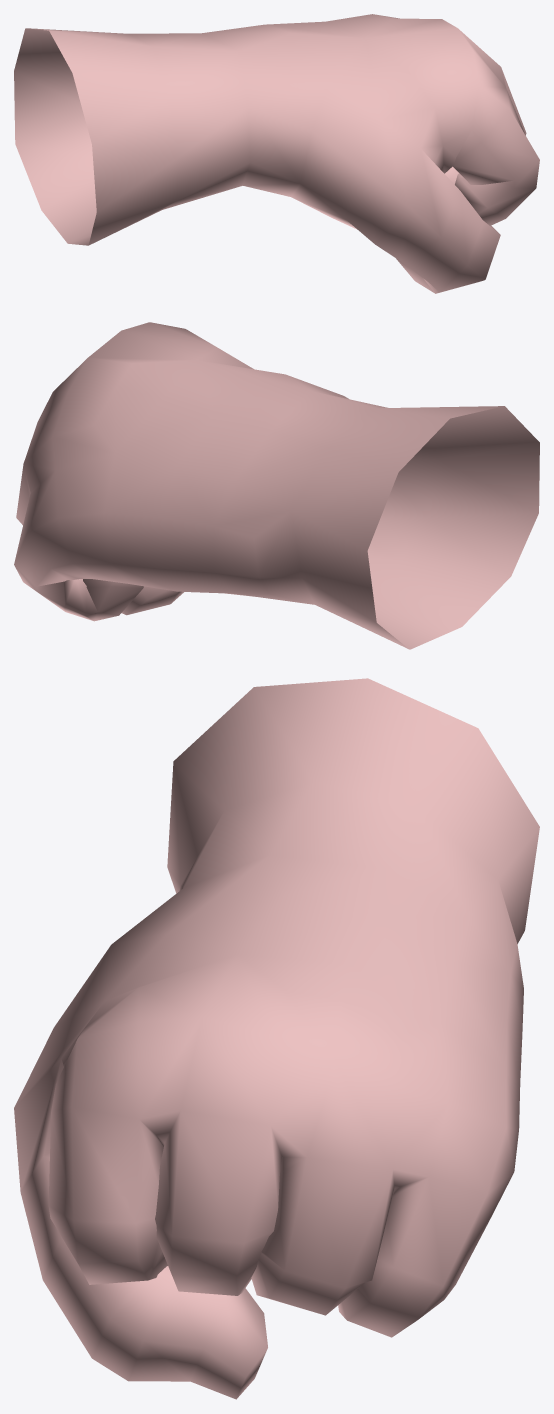
File: Nendoroid_B_Hand02.fbx
The picture shows the model from 3 angles, top to bottom: view 1: azimuth 30°, elevation 25°; view 2: azimuth 150°, elevation 25°; view 3: azimuth 270°, elevation 25°; orthographic projection. The views are drawn at different scales.
Parts seen in each view (by area): view 1: Nendoroid_B_Hand02; view 2: Nendoroid_B_Hand02; view 3: Nendoroid_B_Hand02.
Part boxes in pixels (x1,y1,x2,y2): Nendoroid_B_Hand02: (14, 14, 539, 293); Nendoroid_B_Hand02: (14, 322, 539, 649); Nendoroid_B_Hand02: (14, 678, 539, 1399).
Size of the model in its own units: 0.4202 by 0.2682 by 0.2825.
